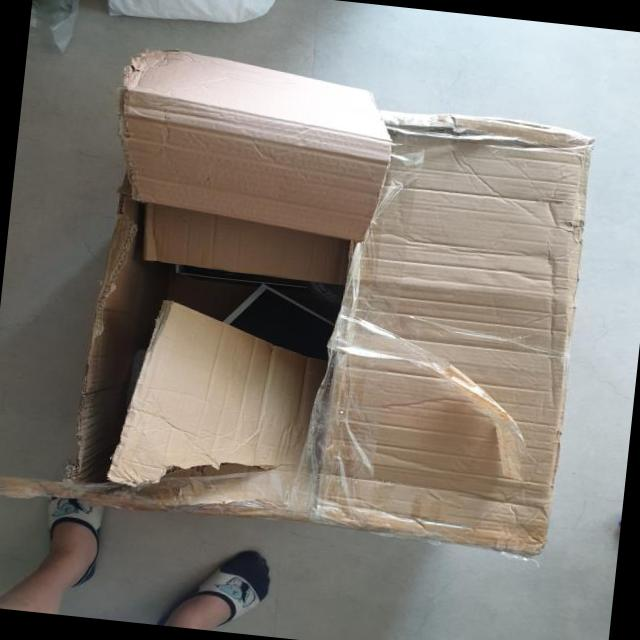box: (76, 51, 593, 561)
crushed: (350, 261, 561, 543)
tear: (84, 44, 388, 513)
